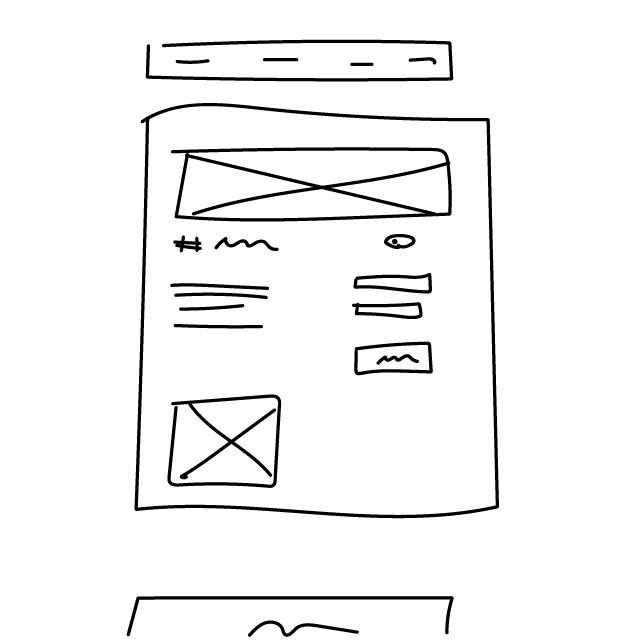buttonrotation: (353, 336, 443, 379)
checkboxrotation: (383, 232, 422, 250)
containerrotation: (135, 100, 514, 533)
footerrotation: (116, 587, 465, 640)
framerotation: (166, 145, 466, 229), (166, 391, 287, 492)
headingrotation: (174, 231, 285, 264)
inputrotation: (353, 272, 436, 298), (351, 301, 430, 324)
navrotation: (142, 37, 462, 88)
textrotation: (161, 274, 281, 337)
